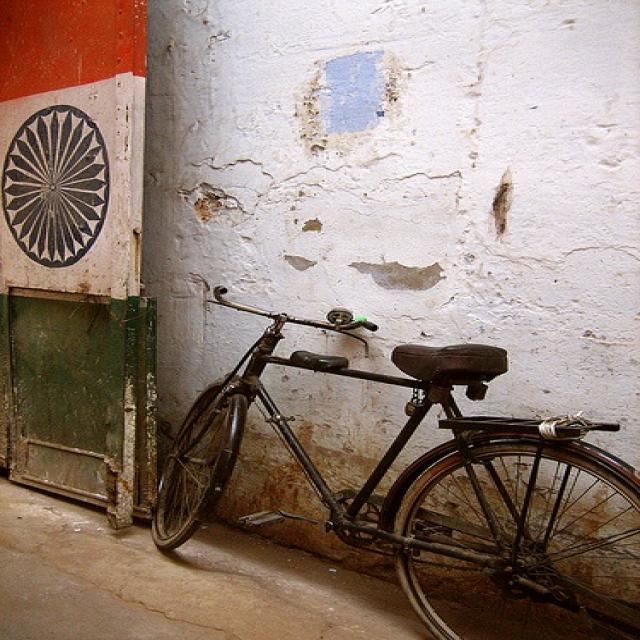bicycle: (150, 285, 638, 639)
